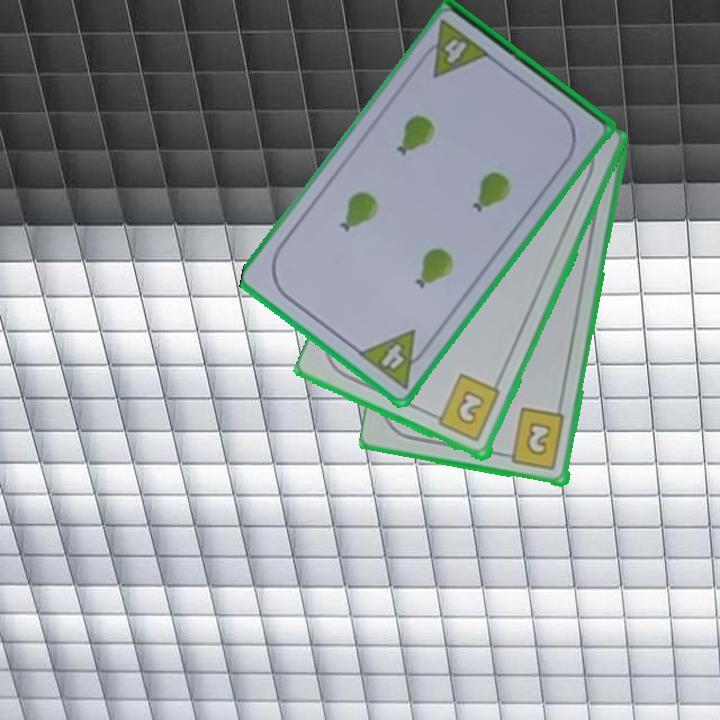2b: (427, 371, 503, 445), (499, 405, 568, 473)
4p: (355, 326, 435, 392), (414, 18, 494, 81)
